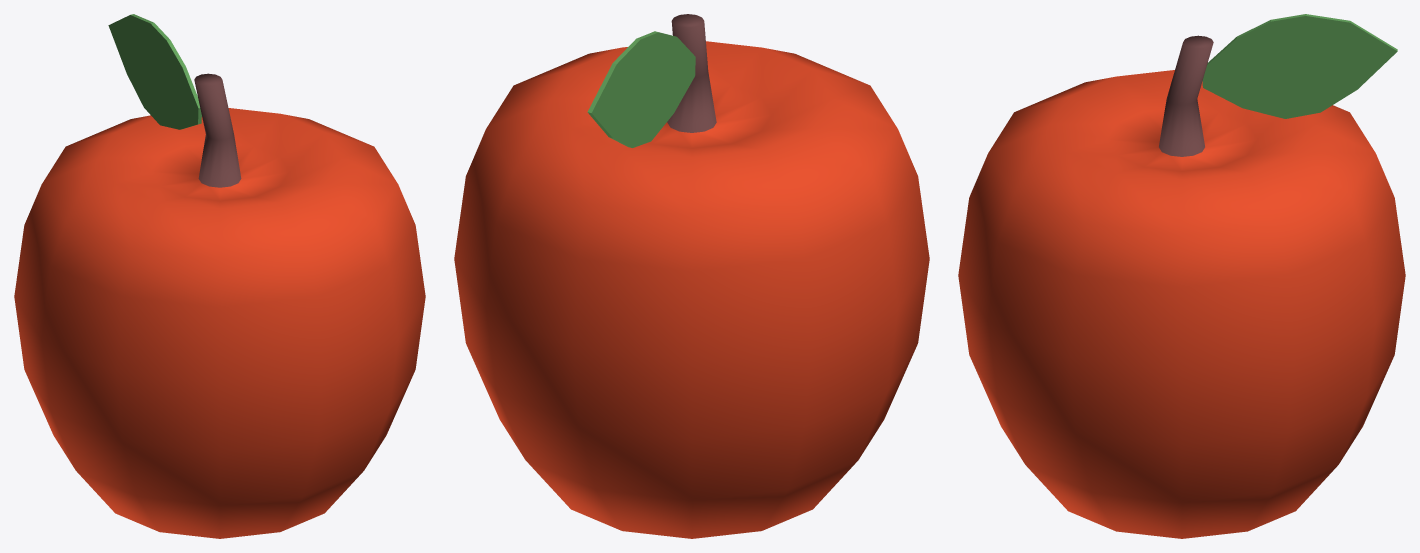
Rendered from Mela.fbx.
3 renders of one model, left to right at view 1: azimuth 30°, elevation 25°; view 2: azimuth 150°, elevation 25°; view 3: azimuth 270°, elevation 25°, orthographic. The views are drawn at different scales.
Parts seen in each view (by area): view 1: Mela; view 2: Mela; view 3: Mela.
Boxes of the visible parts, x1,y1,x2,y2 form: Mela: (14, 14, 425, 538); Mela: (454, 14, 929, 538); Mela: (958, 14, 1405, 538).
Bounding box in the file's own units: 17.42 × 20.38 × 17.42.
